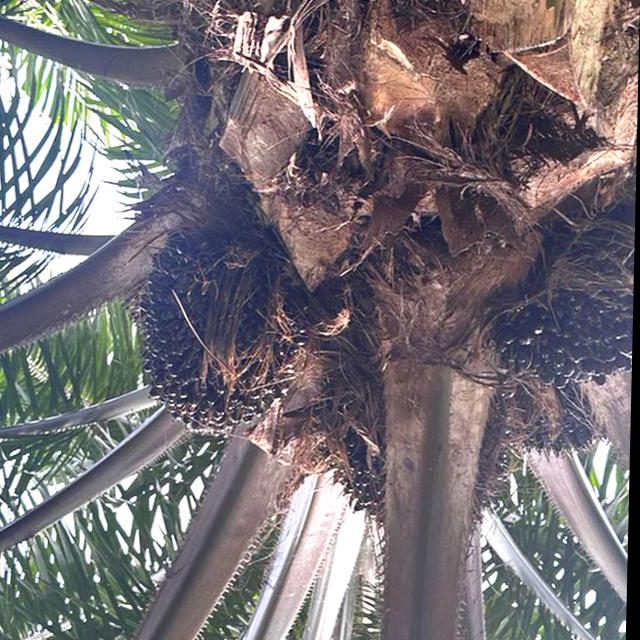almost: (133, 231, 309, 443), (492, 209, 636, 400)
